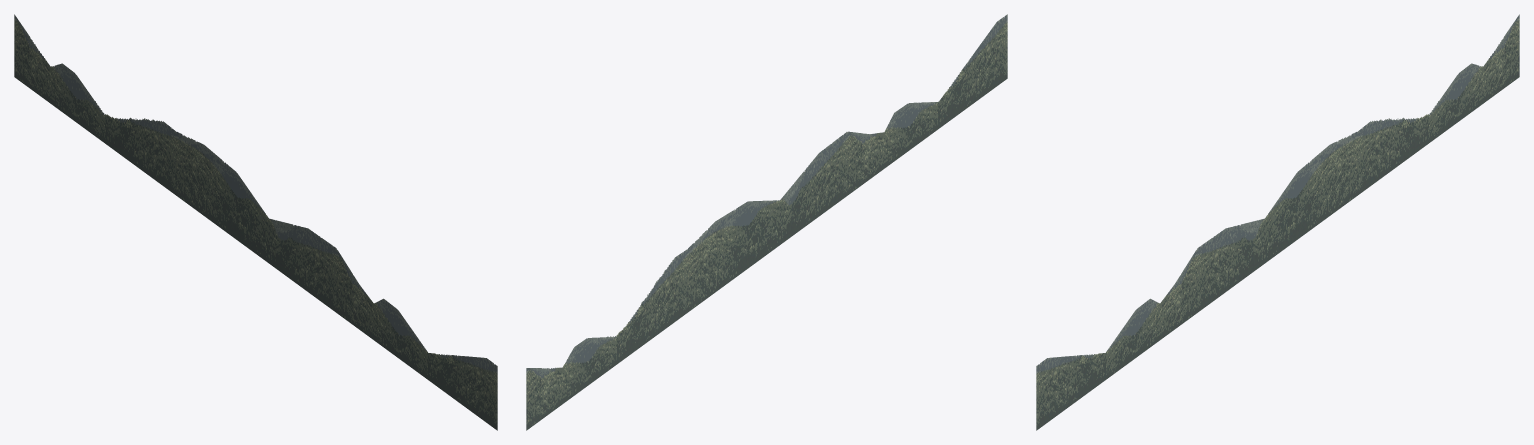
File: BgMD_Dis_Forest_A.FBX
The picture shows the model from 3 angles, left to right: view 1: azimuth 30°, elevation 25°; view 2: azimuth 150°, elevation 25°; view 3: azimuth 330°, elevation 25°; orthographic projection.
Visible parts, largest first — view 1: BgMD_Dis_Forest_A; view 2: BgMD_Dis_Forest_A; view 3: BgMD_Dis_Forest_A.
Part boxes in pixels (x1,y1,x2,y2): BgMD_Dis_Forest_A: (14, 14, 497, 430); BgMD_Dis_Forest_A: (526, 14, 1007, 430); BgMD_Dis_Forest_A: (1036, 14, 1519, 430).
Bounding box in the file's own units: 0.000183 × 782 × 9600.
